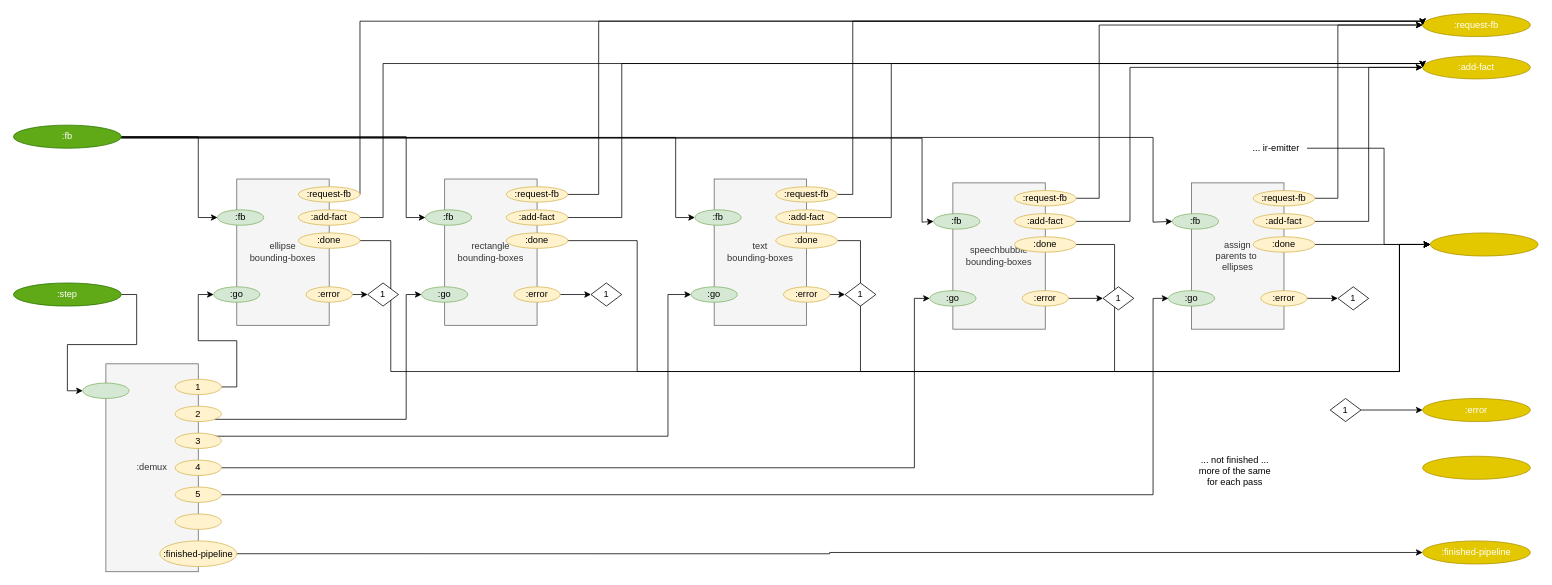
Some shapes in this 1552 by 585 pixel diagram are drawn without their labels. The shapes that lost their labels are listed below. From the top down, each one's box as (x1, y1, x2, y2) in pixels, then its label:
(1430, 232, 1538, 256): :done-step
(82, 382, 129, 398): :N
(1422, 455, 1530, 479): :retract-fact
(174, 513, 221, 529): :M
